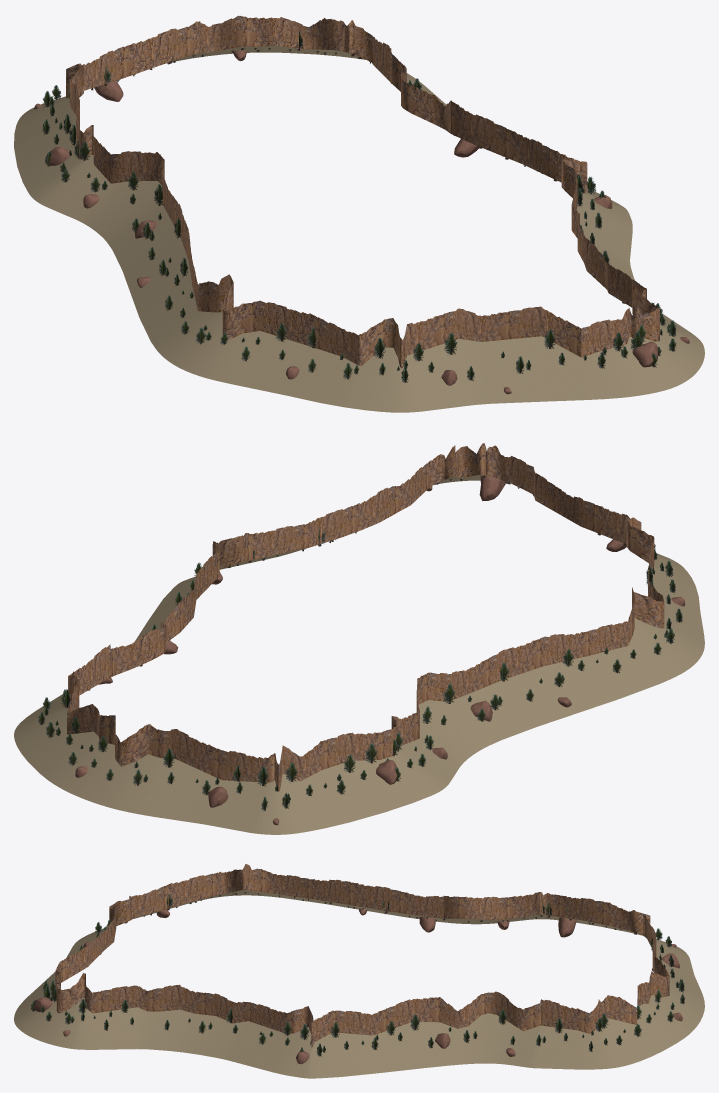
3 views of the same model, one above another, from view 1: azimuth 30°, elevation 25°; view 2: azimuth 150°, elevation 25°; view 3: azimuth 270°, elevation 25° (orthographic). The views are drawn at different scales.
Visible parts, largest first — view 1: Wall_02, Wall_01, Wall_09, Wall_00, Wall_03, Wall_07, Wall_08, Wall_05, Wall_04, Wall_06, Trees_02, Trees_09 (+3 smaller); view 2: Wall_00, Wall_08, Wall_09, Wall_07, Wall_01, Wall_04, Wall_06, Wall_02, Wall_03, Wall_05, Trees_09, Trees_00 (+3 smaller); view 3: Wall_04, Wall_06, Wall_05, Wall_07, Wall_00, Wall_09, Wall_03, Wall_01, Wall_08, Wall_02, Trees_05, Trees_06 (+4 smaller).
Part boxes in pixels (x1=…): Wall_02: x1=343, y1=306, x2=586, y2=412; Wall_01: x1=155, y1=274, x2=359, y2=406; Wall_09: x1=14, y1=83, x2=164, y2=241; Wall_00: x1=107, y1=174, x2=208, y2=348; Wall_03: x1=581, y1=281, x2=704, y2=399; Wall_07: x1=166, y1=15, x2=365, y2=63; Wall_08: x1=14, y1=28, x2=181, y2=147; Wall_05: x1=451, y1=100, x2=632, y2=230; Wall_04: x1=571, y1=170, x2=694, y2=335; Wall_06: x1=345, y1=20, x2=450, y2=133; Trees_02: x1=354, y1=328, x2=564, y2=382; Trees_09: x1=42, y1=114, x2=138, y2=204; Wall_00: x1=447, y1=608, x2=670, y2=745; Wall_08: x1=139, y1=729, x2=349, y2=834; Wall_09: x1=319, y1=672, x2=488, y2=822; Wall_07: x1=14, y1=677, x2=163, y2=814; Wall_01: x1=632, y1=538, x2=704, y2=678; Wall_04: x1=221, y1=456, x2=436, y2=569; Wall_06: x1=14, y1=602, x2=179, y2=739; Wall_02: x1=533, y1=467, x2=695, y2=586; Wall_03: x1=437, y1=443, x2=533, y2=494; Wall_05: x1=135, y1=533, x2=245, y2=641; Trees_09: x1=337, y1=706, x2=446, y2=794; Trees_00: x1=443, y1=647, x2=636, y2=721; Wall_04: x1=86, y1=984, x2=294, y2=1071; Wall_06: x1=440, y1=991, x2=631, y2=1069; Wall_05: x1=272, y1=997, x2=448, y2=1078; Wall_07: x1=603, y1=954, x2=704, y2=1063; Wall_00: x1=261, y1=869, x2=451, y2=923; Wall_09: x1=443, y1=892, x2=630, y2=932; Wall_03: x1=14, y1=963, x2=88, y2=1049; Wall_01: x1=130, y1=864, x2=269, y2=919; Wall_08: x1=610, y1=903, x2=703, y2=997; Wall_02: x1=29, y1=896, x2=131, y2=995; Trees_05: x1=299, y1=1014, x2=433, y2=1056; Trees_06: x1=448, y1=1009, x2=608, y2=1051.
Size of what is drawn, in the model's own units: 250 by 35.27 by 399.
